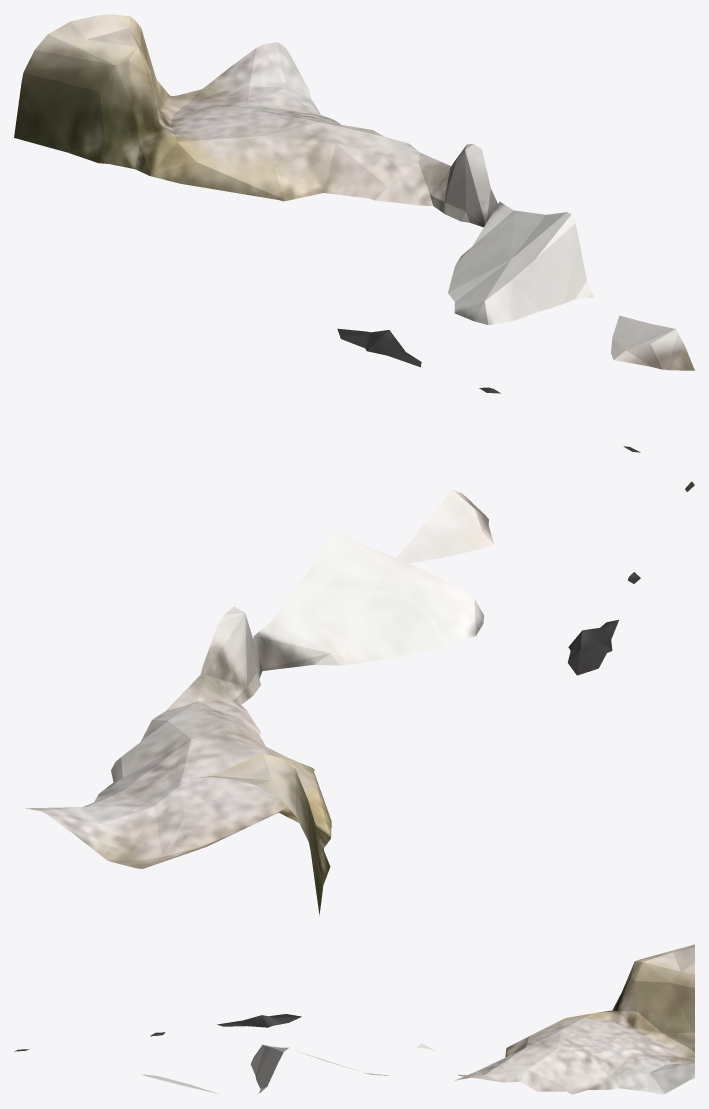
3 renders of one model, top to bottom at view 1: azimuth 30°, elevation 25°; view 2: azimuth 150°, elevation 25°; view 3: azimuth 270°, elevation 25°, orthographic. The views are drawn at different scales.
Size of the model in its own units: 0.8379 by 0.3019 by 2.56.
1 material, 1 textured.
